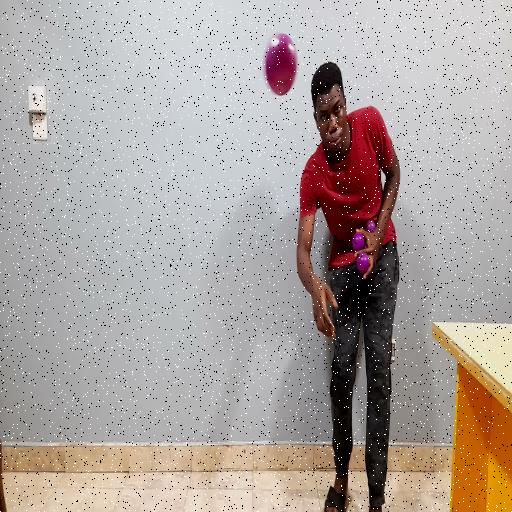plastic-ball: (265, 34, 297, 95)
